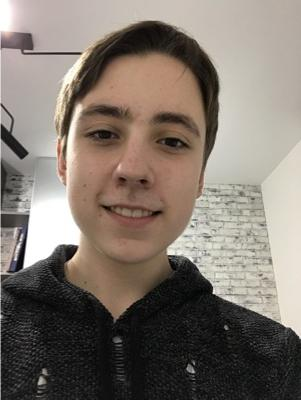without_mask: (62, 103, 210, 265)
